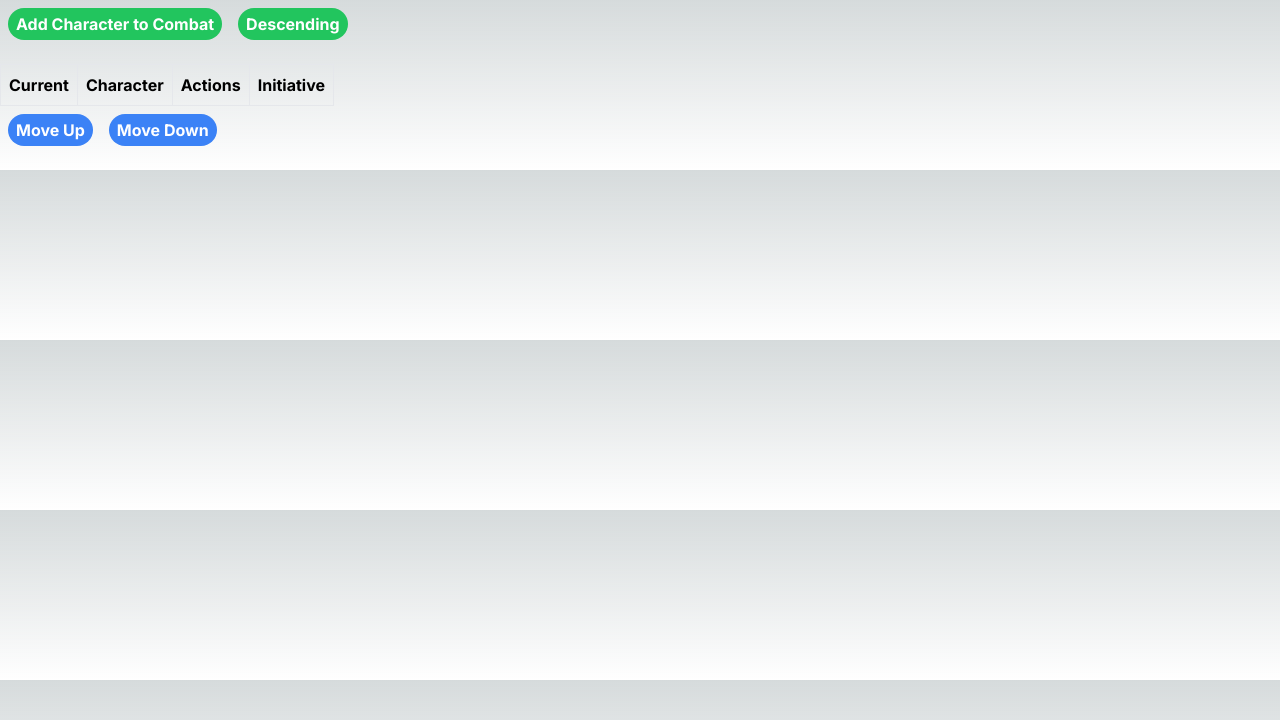
Test: CombatTracker › toggles sort order label correctly
Click the button "Descending". click: (293, 24)
box: [238, 8, 348, 40]
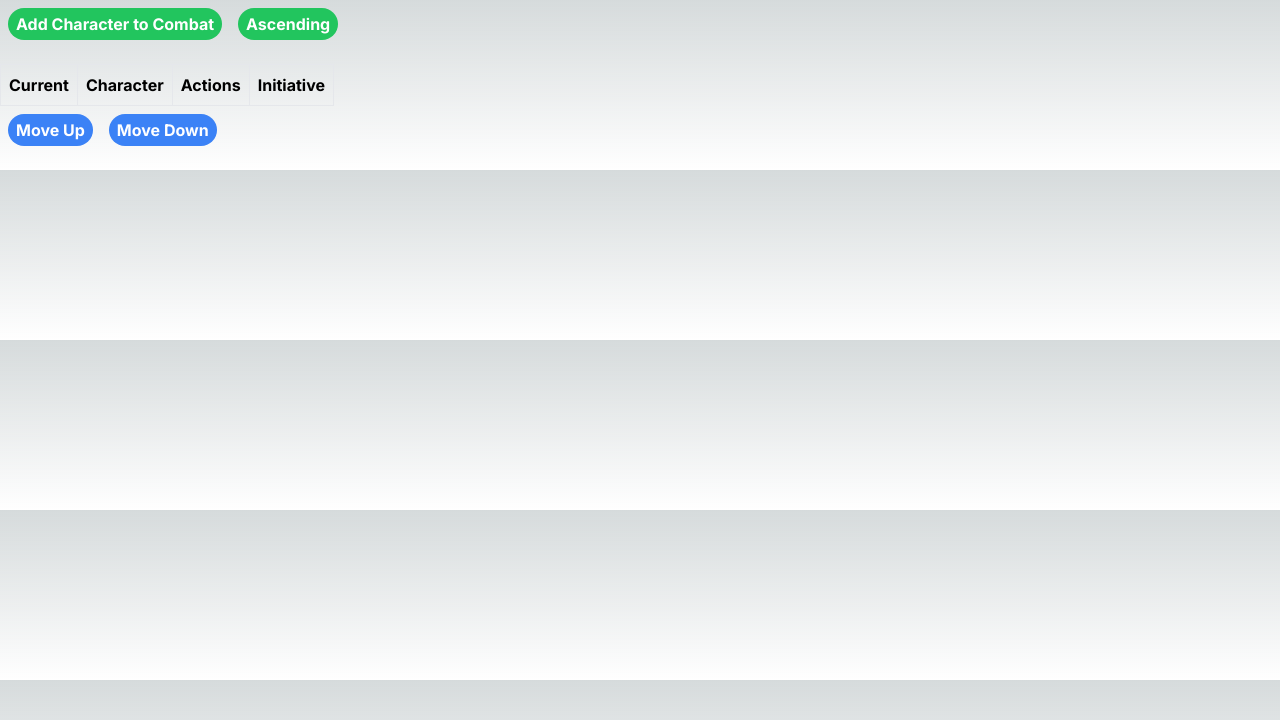
Expected: the button "Ascending" is shown
Click the button "Ascending". click: (288, 24)
box: [238, 8, 338, 40]
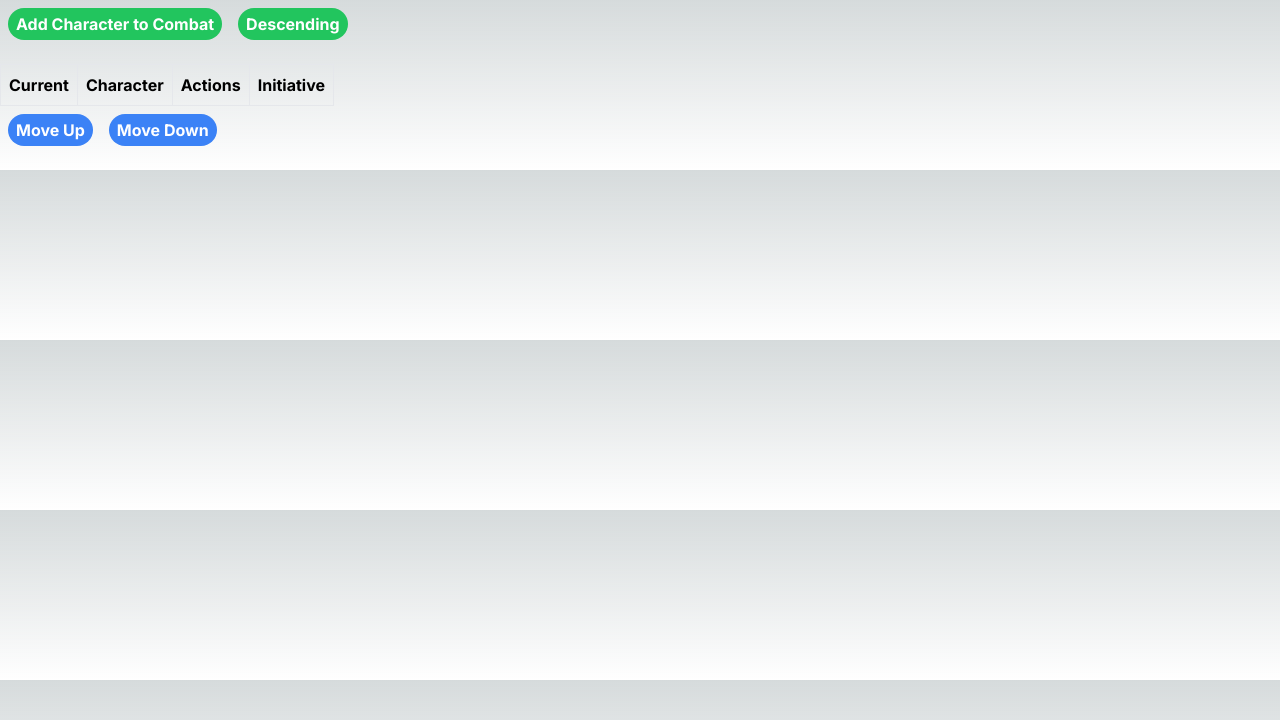
Expected: the button "Descending" is shown, [238, 8, 348, 40]
